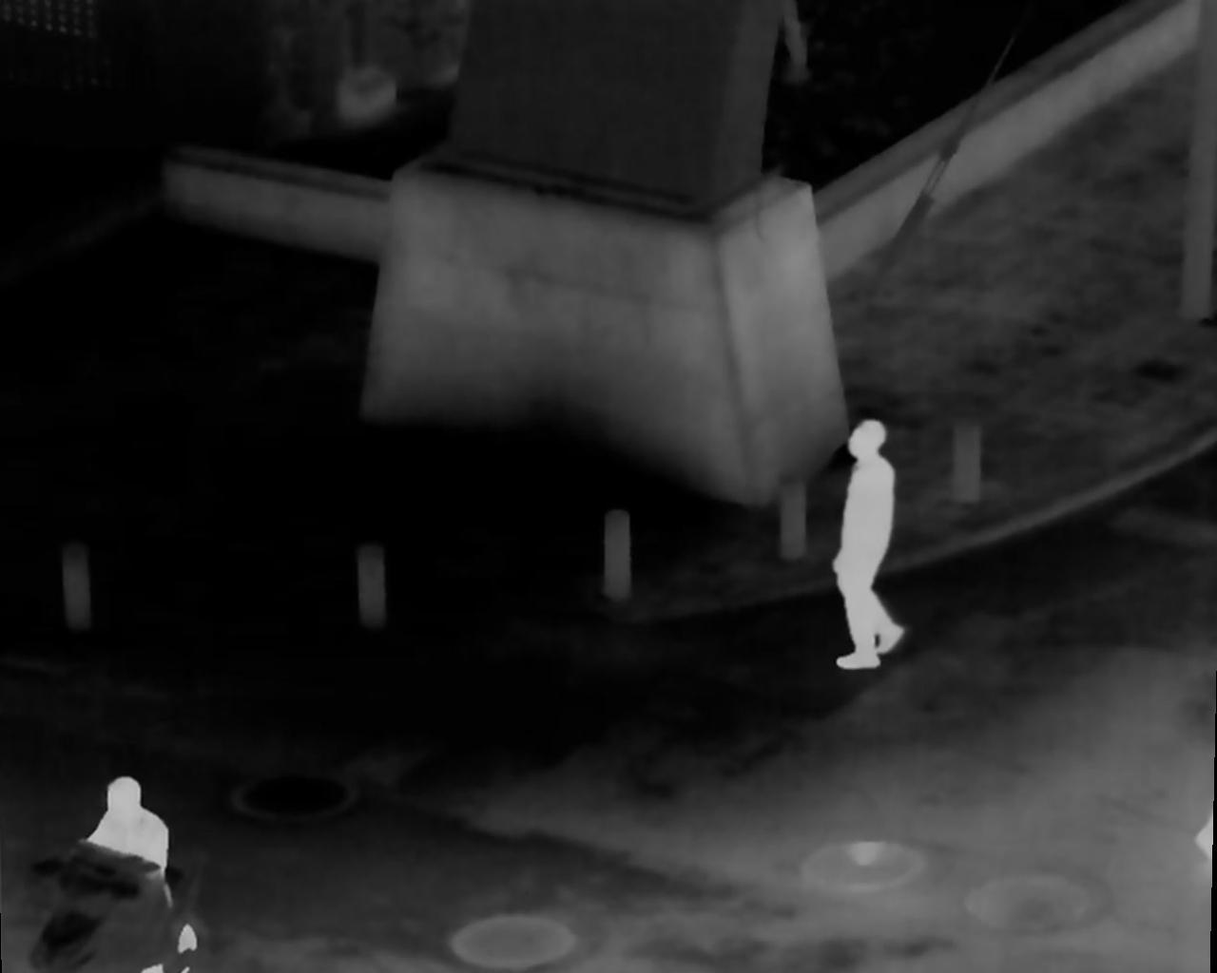person: (824, 417, 908, 683), (82, 781, 186, 955)
